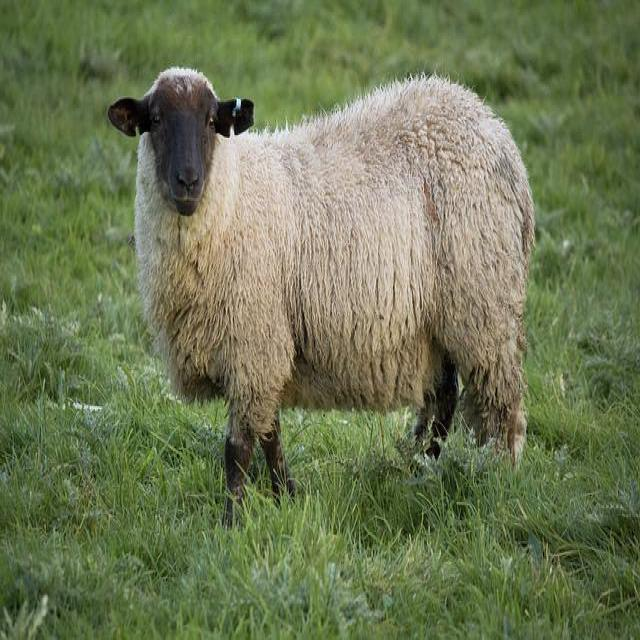Sheep: (109, 68, 534, 523)
